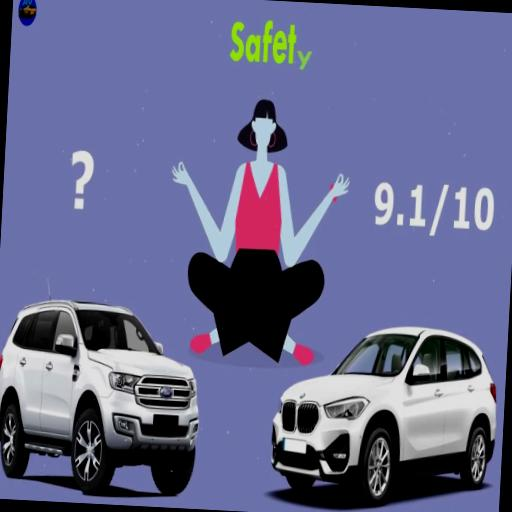Sedan-sDLz: (272, 327, 496, 505)
suv: (0, 299, 204, 505)
